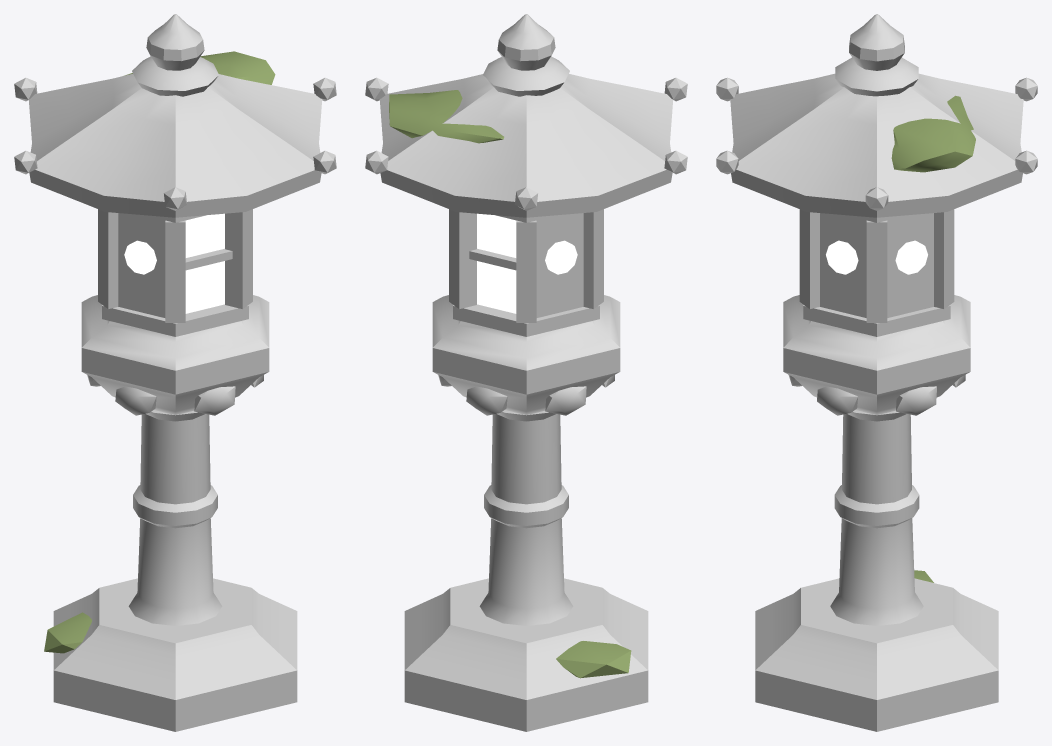
File: ishidoro.glb
The picture shows the model from 3 angles, left to right: view 1: azimuth 30°, elevation 25°; view 2: azimuth 150°, elevation 25°; view 3: azimuth 270°, elevation 25°; orthographic projection.
Parts seen in each view (by area): view 1: ishidoro_body; view 2: ishidoro_body; view 3: ishidoro_body.
Boxes of the visible parts, x1,y1,x2,y2 form: ishidoro_body: [14, 14, 336, 731]; ishidoro_body: [365, 14, 687, 731]; ishidoro_body: [716, 14, 1037, 731].
Size of what is drawn, in the model's own units: 1.26 by 2.48 by 1.1.
